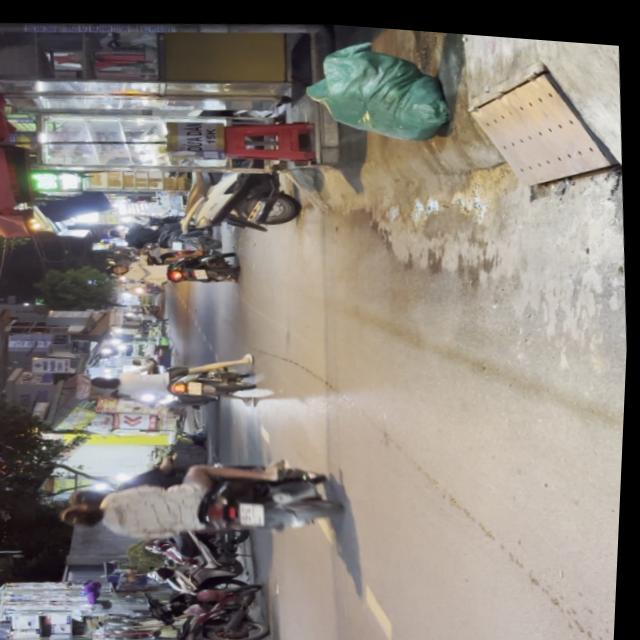helmet: (62, 500, 107, 529)
licenseplate: (56, 437, 350, 553)
motorcyclist: (70, 483, 113, 509)
nohelmet: (241, 497, 267, 523)
